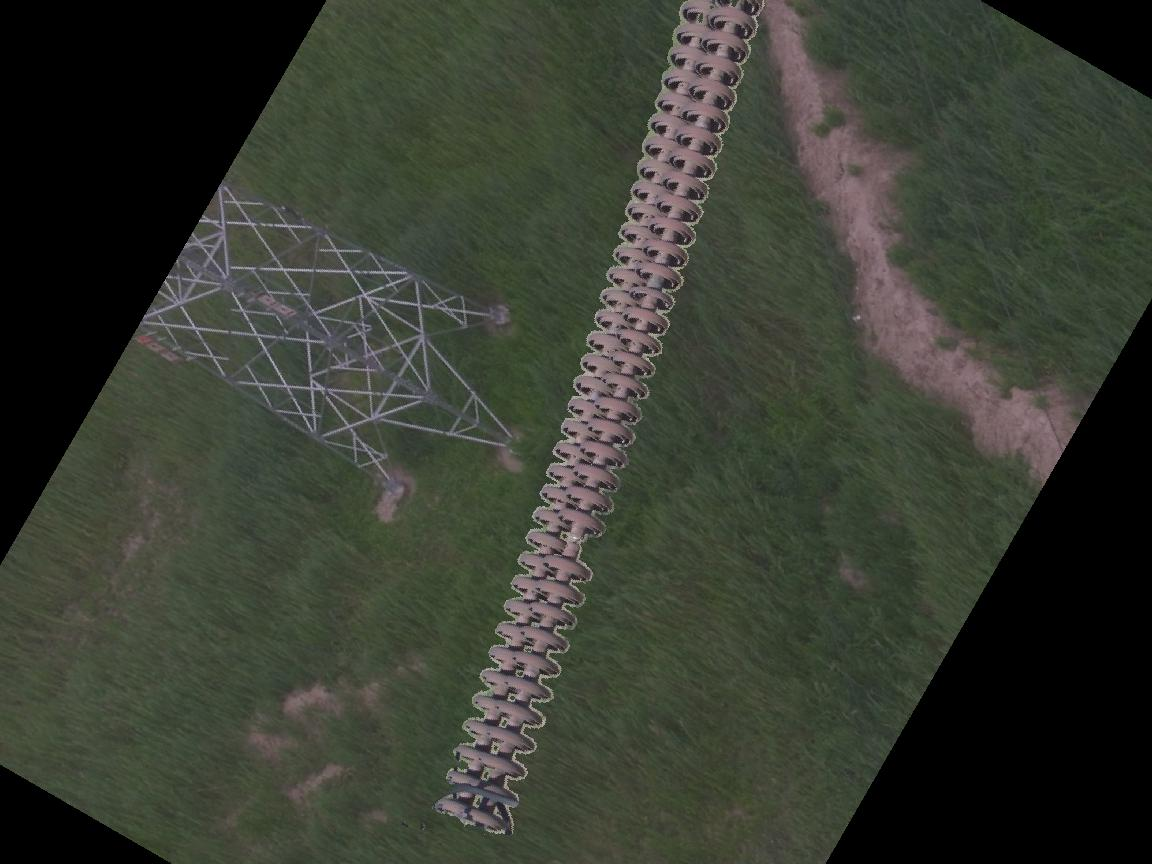insulator: (430, 1, 774, 840)
insulator_stringdrop: (540, 505, 610, 583)
